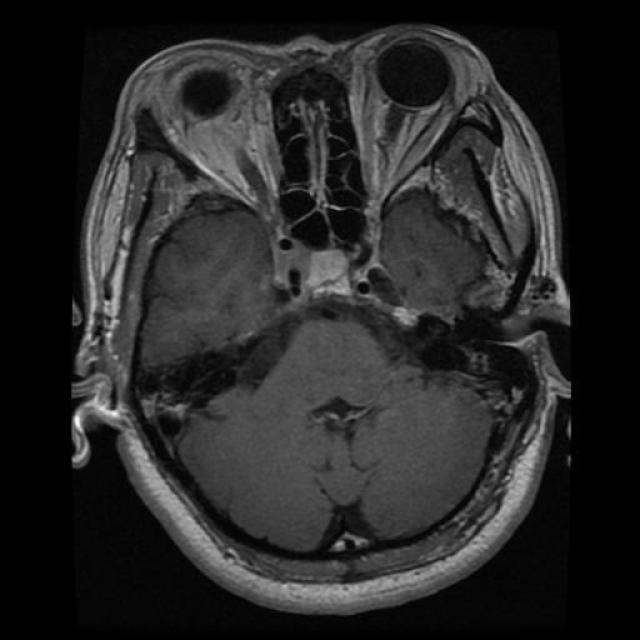pituitary: (280, 218, 422, 330)
